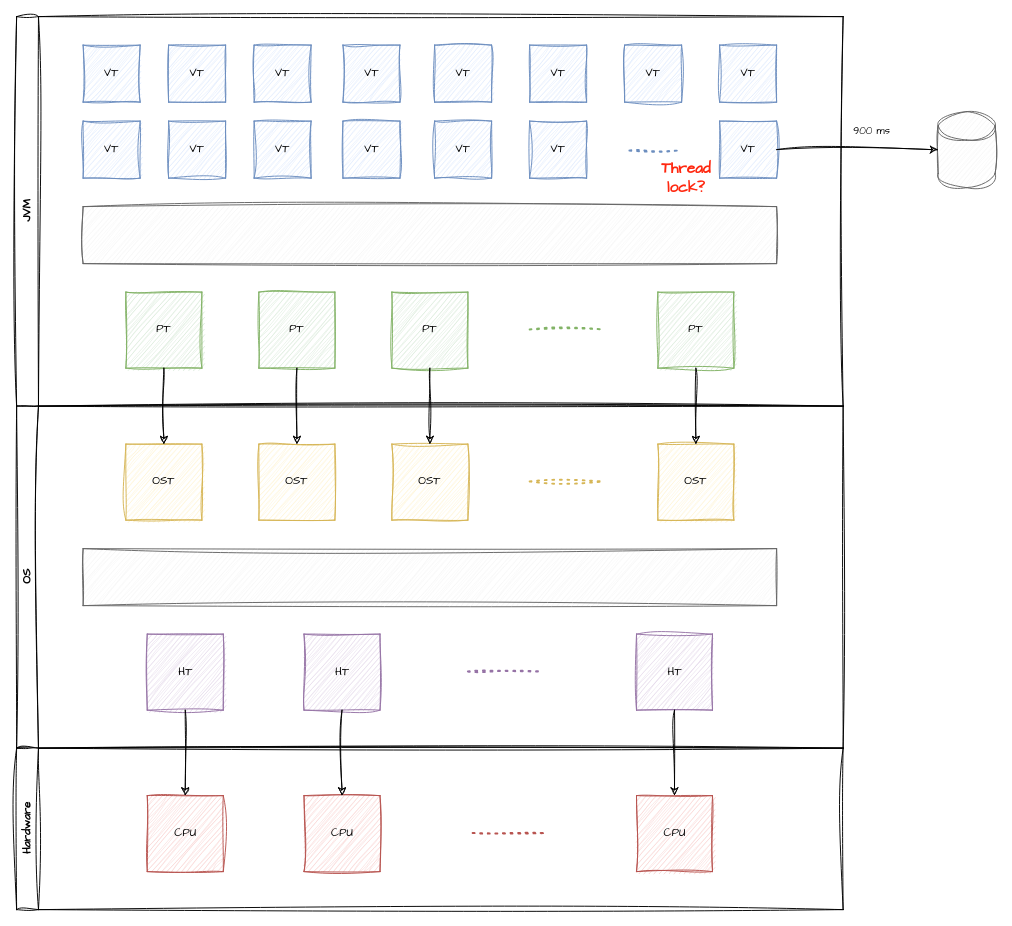
Some shapes in this 1012 by 926 pixel diagram are drawn without their labels. Here are the shapes that lost their labels. From the top down, the centre of each, then its label:
point (966, 149): DB
point (429, 235): JVM Scheduler
point (429, 577): OS Scheduler
